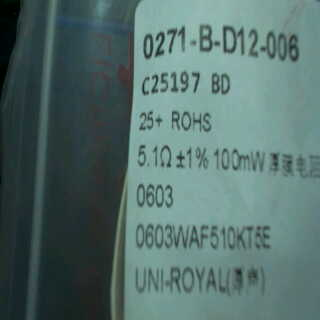5.1R: (131, 139, 172, 176)
